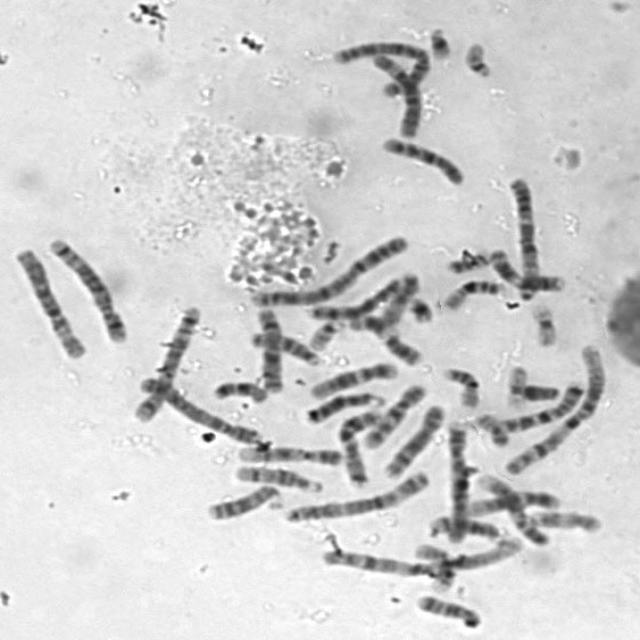A1: (499, 339, 610, 477), (317, 531, 526, 579)
A2: (246, 230, 412, 310), (327, 36, 432, 99)
A3: (283, 465, 434, 524), (502, 172, 544, 302)
B4: (132, 371, 266, 446), (441, 417, 474, 545)
B5: (43, 232, 131, 344), (128, 300, 204, 424)
C10: (358, 378, 430, 451), (376, 132, 468, 187)
C11: (347, 309, 427, 368), (483, 242, 570, 294)
C12: (305, 356, 400, 400), (462, 484, 562, 516)
C6: (8, 242, 92, 360), (366, 48, 424, 140)
C7: (491, 376, 588, 436), (332, 403, 386, 488)
C8: (377, 399, 449, 480), (302, 272, 414, 322)
C9: (470, 469, 552, 548), (233, 439, 347, 467)
D13: (202, 479, 286, 523), (299, 387, 385, 425)
D14: (230, 459, 325, 494), (424, 510, 507, 543)
D15: (369, 268, 422, 333), (245, 327, 325, 367)
E16: (438, 274, 508, 312), (438, 362, 482, 410)
E17: (408, 538, 458, 594), (525, 504, 606, 534)
E18: (412, 589, 484, 630), (208, 376, 271, 404)
F19: (526, 298, 560, 348), (500, 360, 532, 410)
F20: (470, 408, 512, 448), (442, 245, 492, 275)
G21: (423, 22, 455, 61), (404, 292, 436, 324)
G22: (303, 314, 348, 352), (458, 36, 496, 79)
X: (302, 270, 420, 322), (250, 302, 287, 394)
Y: (516, 379, 563, 402)
